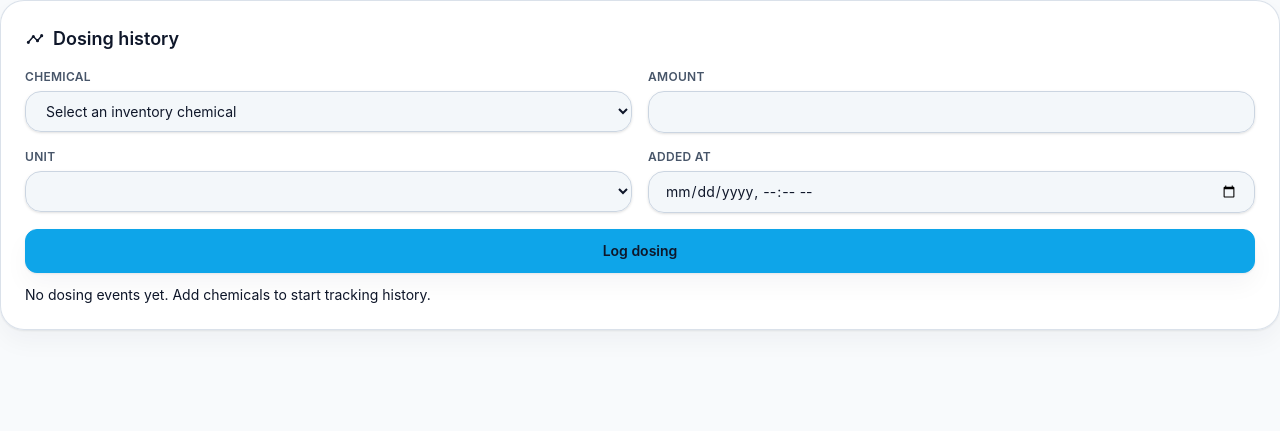
Test: DosingHistoryCard › logs dosing and refreshes the history list
Step 1. Select "Generic Liquid Chlorine (0.02 gallons on hand)" in the dropdown labelled "Chemical" → point(328, 112), box [25, 91, 632, 132]
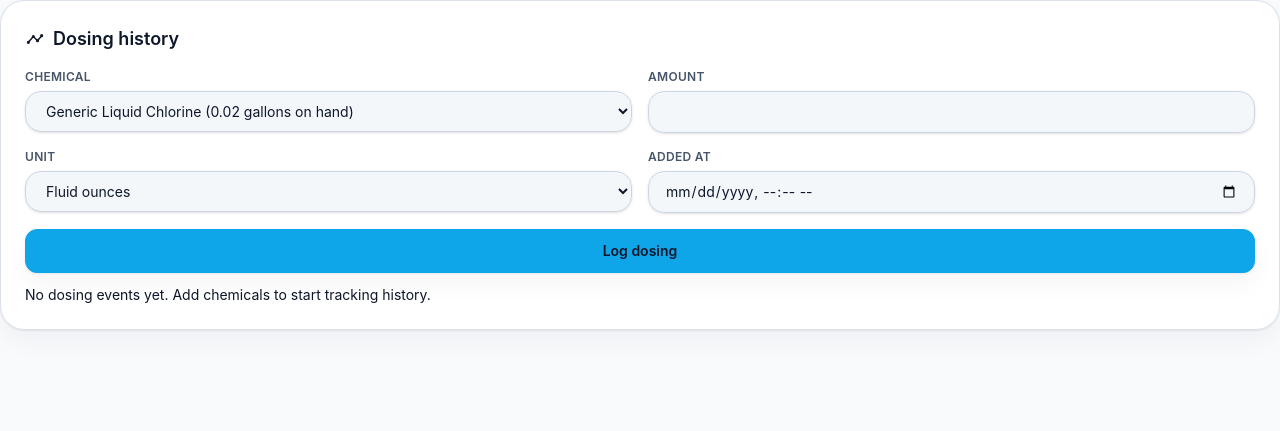
Step 2. Type "12" into the number field labelled "Amount" → point(952, 112), box [648, 91, 1255, 133]
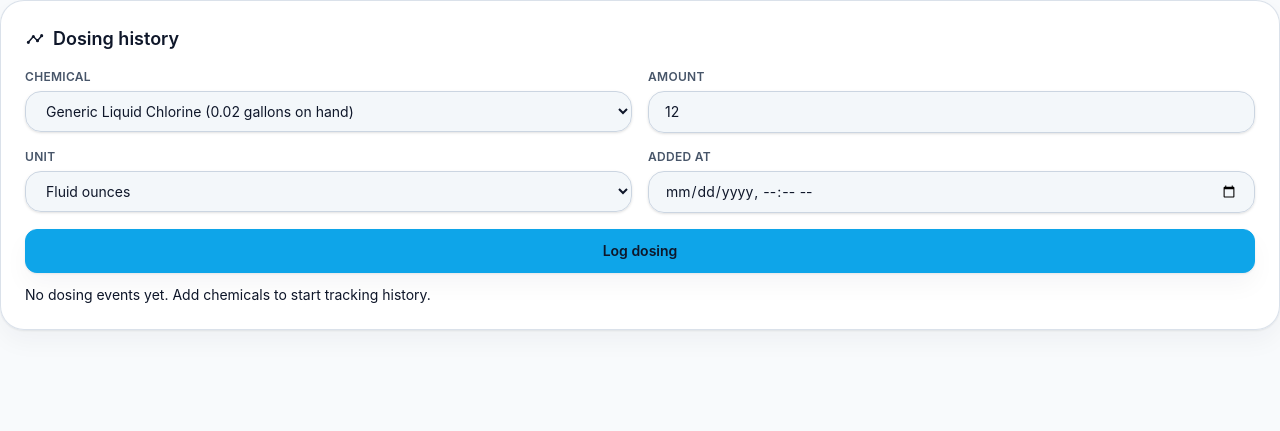
Step 3. Select "Fluid ounces" in the dropdown labelled "Unit" → point(328, 192), box [25, 171, 632, 212]
Step 4. Type "2024-01-02T10:00" into the field labelled "Added at" → point(952, 192), box [648, 171, 1255, 213]
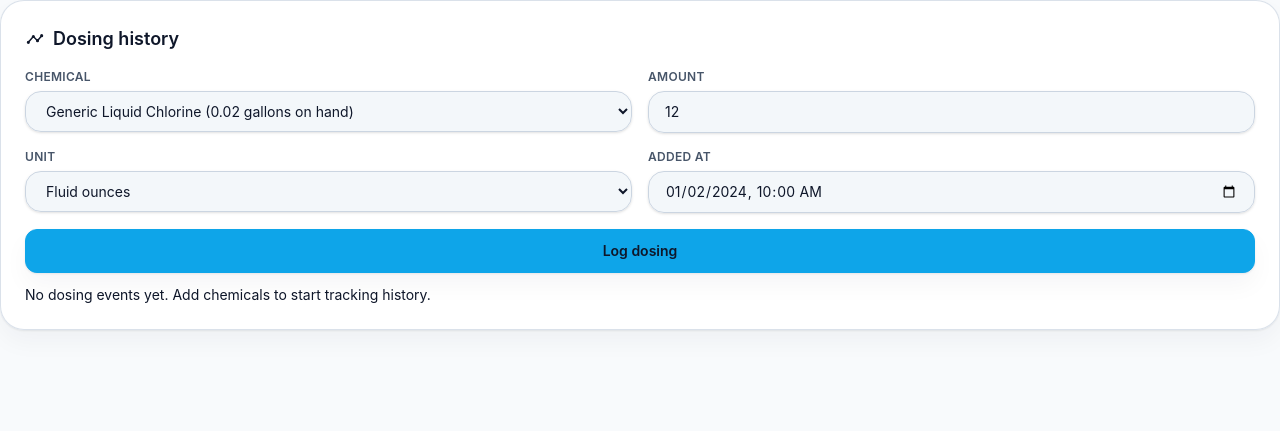
Step 5. Click the button "Log dosing" → point(640, 251), box [25, 229, 1255, 273]
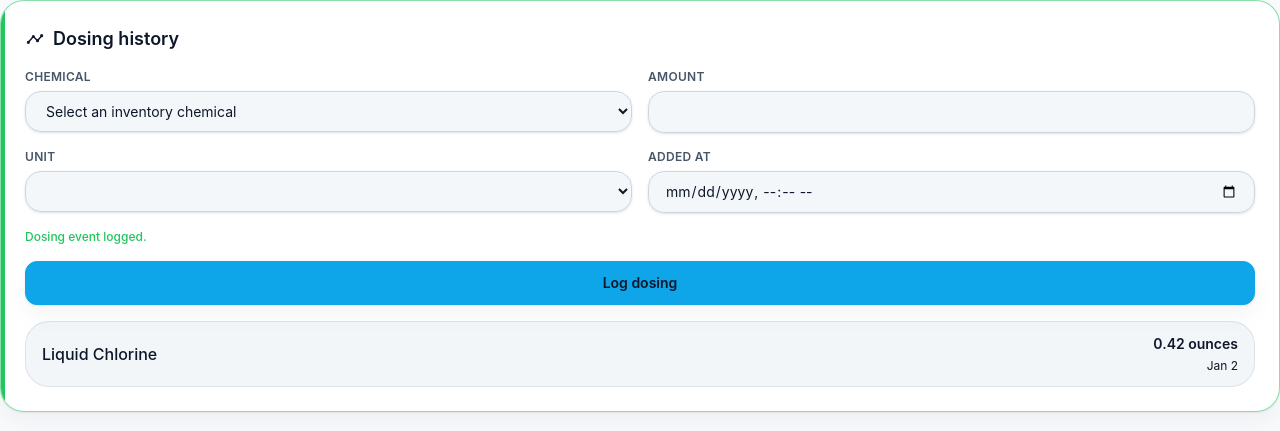
Expected: the message shows "Dosing event logged", [25, 229, 146, 244]
Expected: the text "Liquid Chlorine" is shown, [42, 342, 157, 366]
